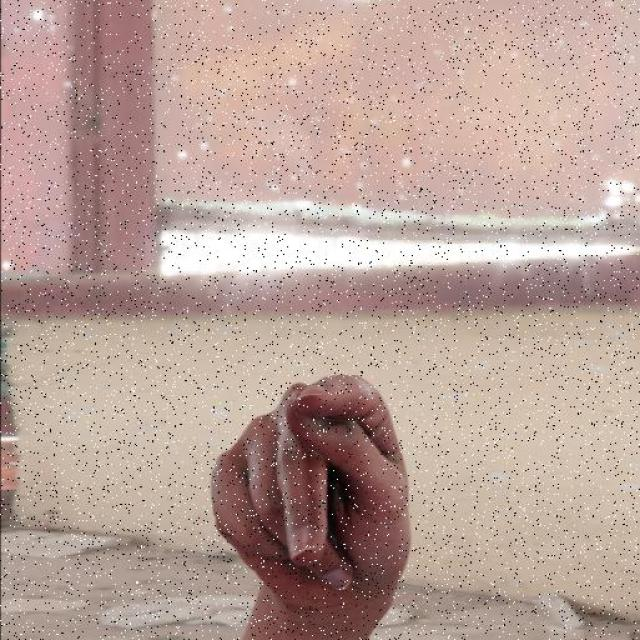P: (207, 371, 414, 611)
